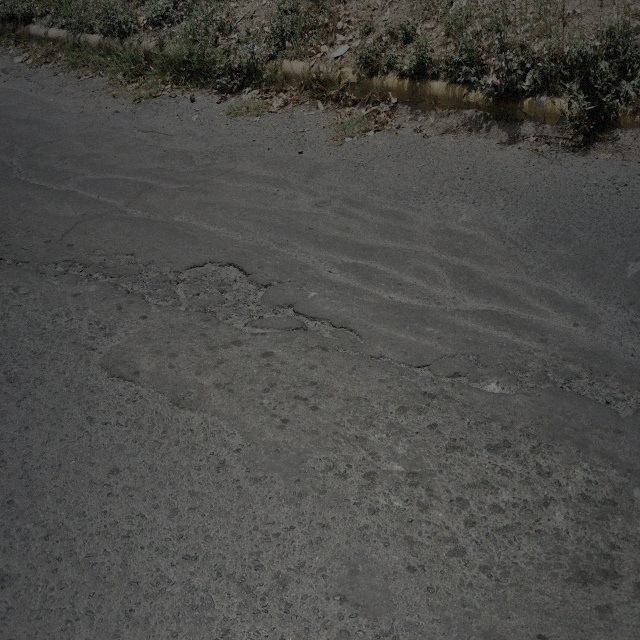pothole: (553, 355, 634, 419), (179, 260, 268, 311), (279, 303, 339, 346), (468, 367, 516, 397), (118, 274, 153, 310), (414, 361, 433, 379), (90, 271, 114, 285)
